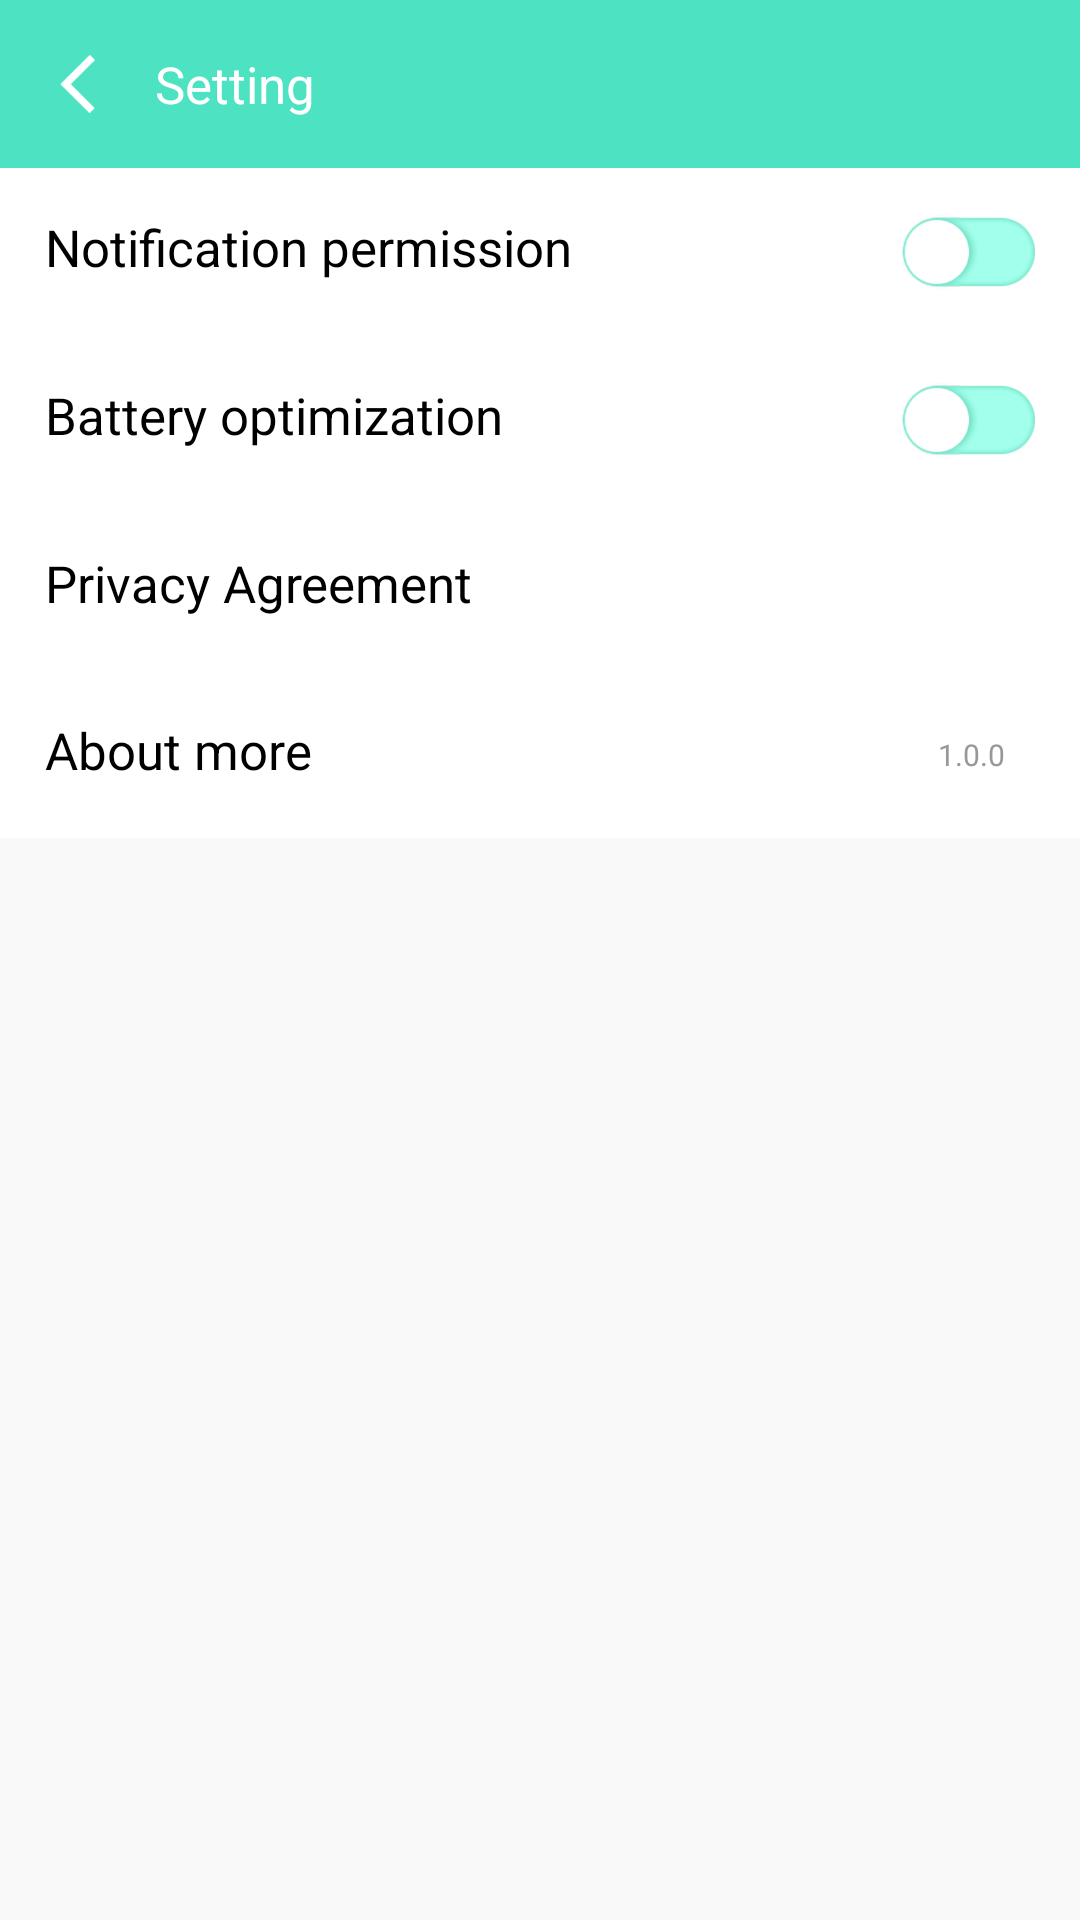

Screen size 1080px x 1920px. Icon name, then its center in pixels as (x=x, y=y):
exit: (x=77, y=84)
